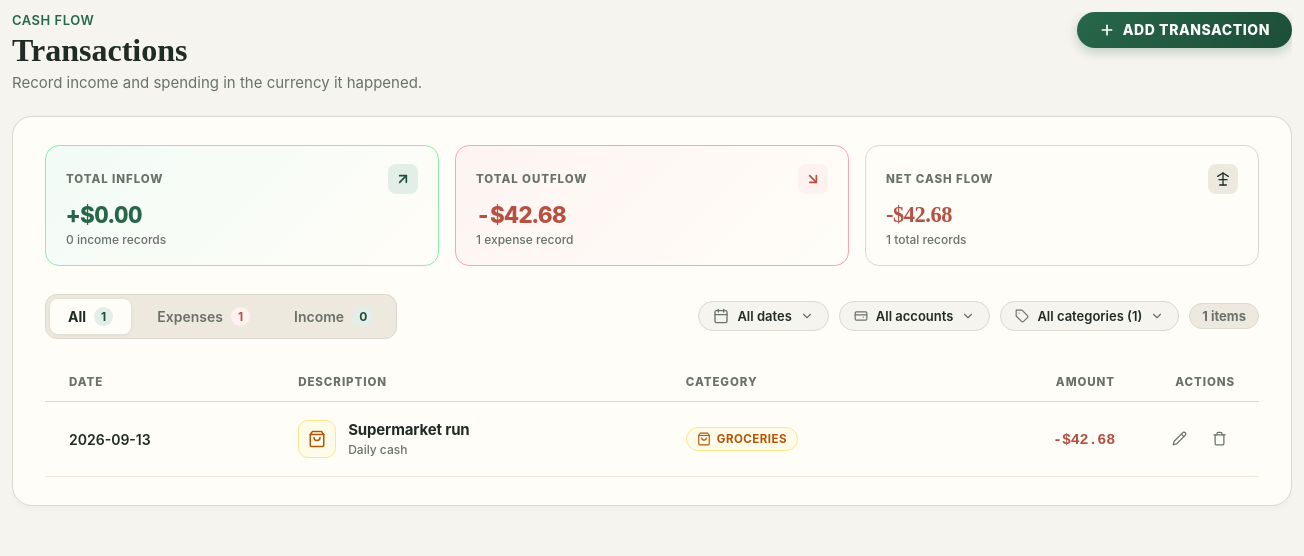
Test: FinancialRecordsView › filters by account and resets with clear filters
The width and height of the screenshot is (1304, 556).
Step 1. Click the dropdown named "filter by account" → (915, 316), box [839,301,990,331]
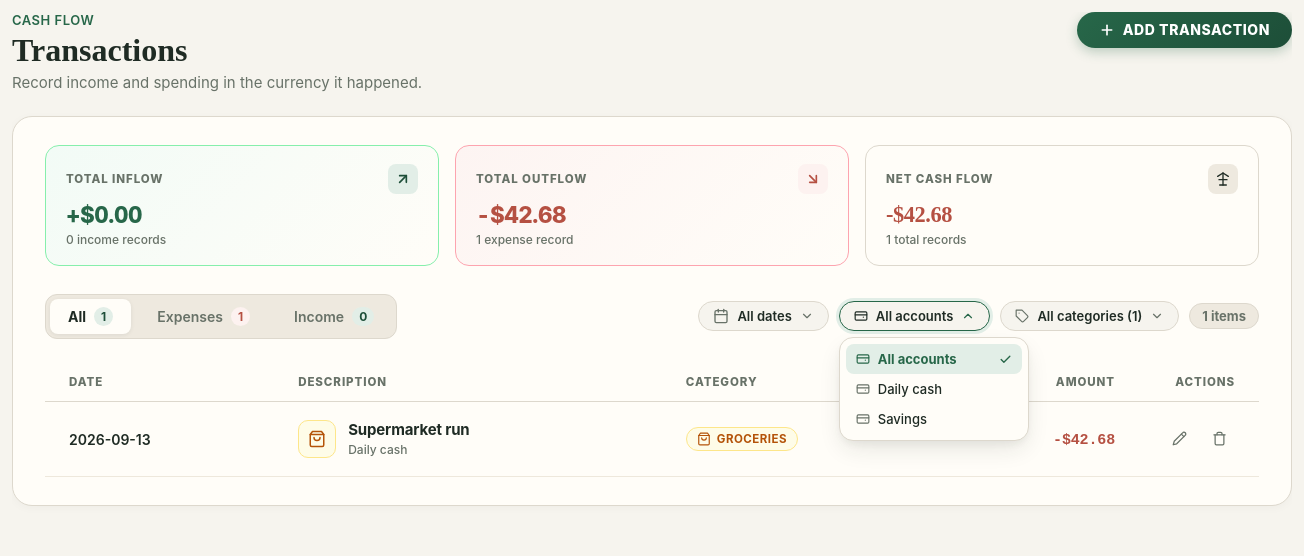
Step 2. Click the option "Savings" → (891, 419), box [856,411,927,427]
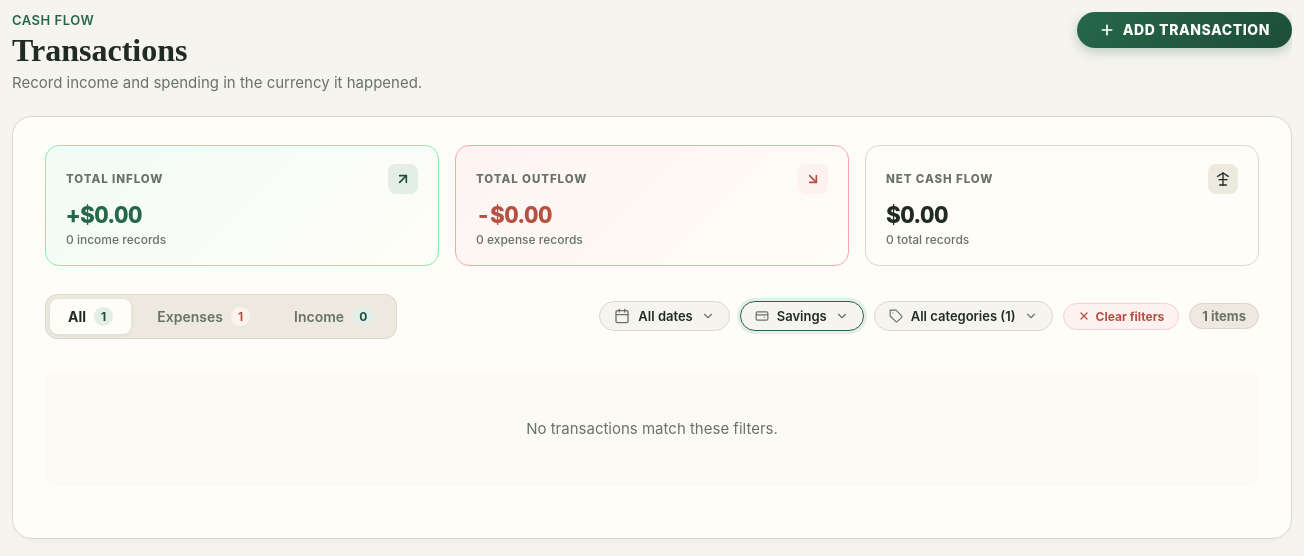
Result: the text "No transactions match these filters." is shown at [45,371,1259,486]
Step 3. Click the button "Clear filters" → (1121, 316), box [1063,303,1179,330]
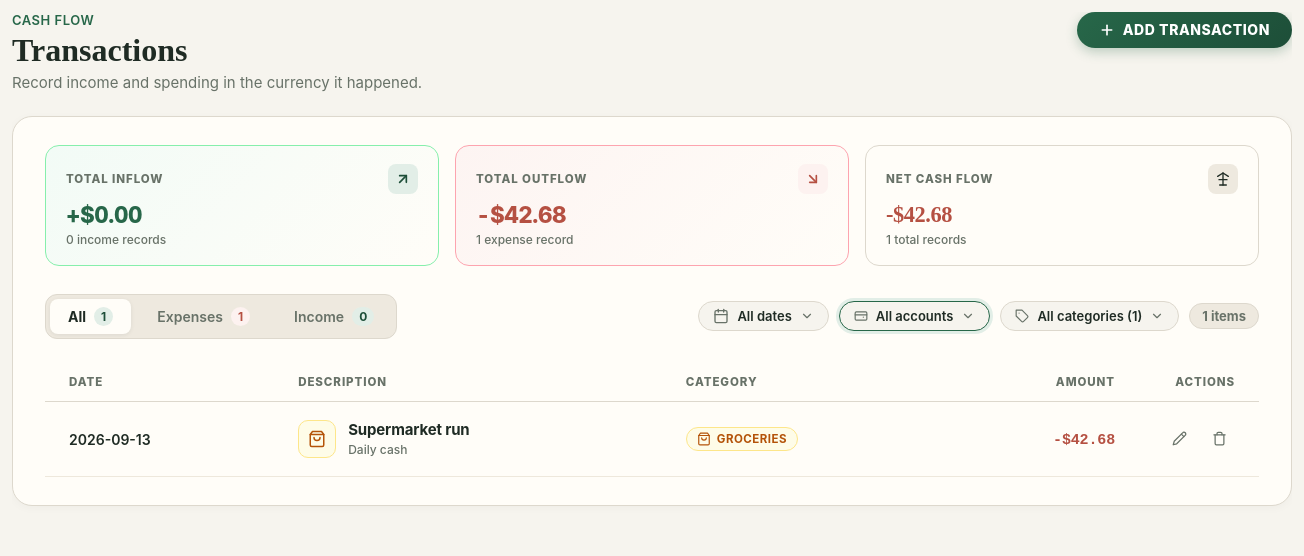
Result: the text "Supermarket run" is shown at [348,420,470,439]
